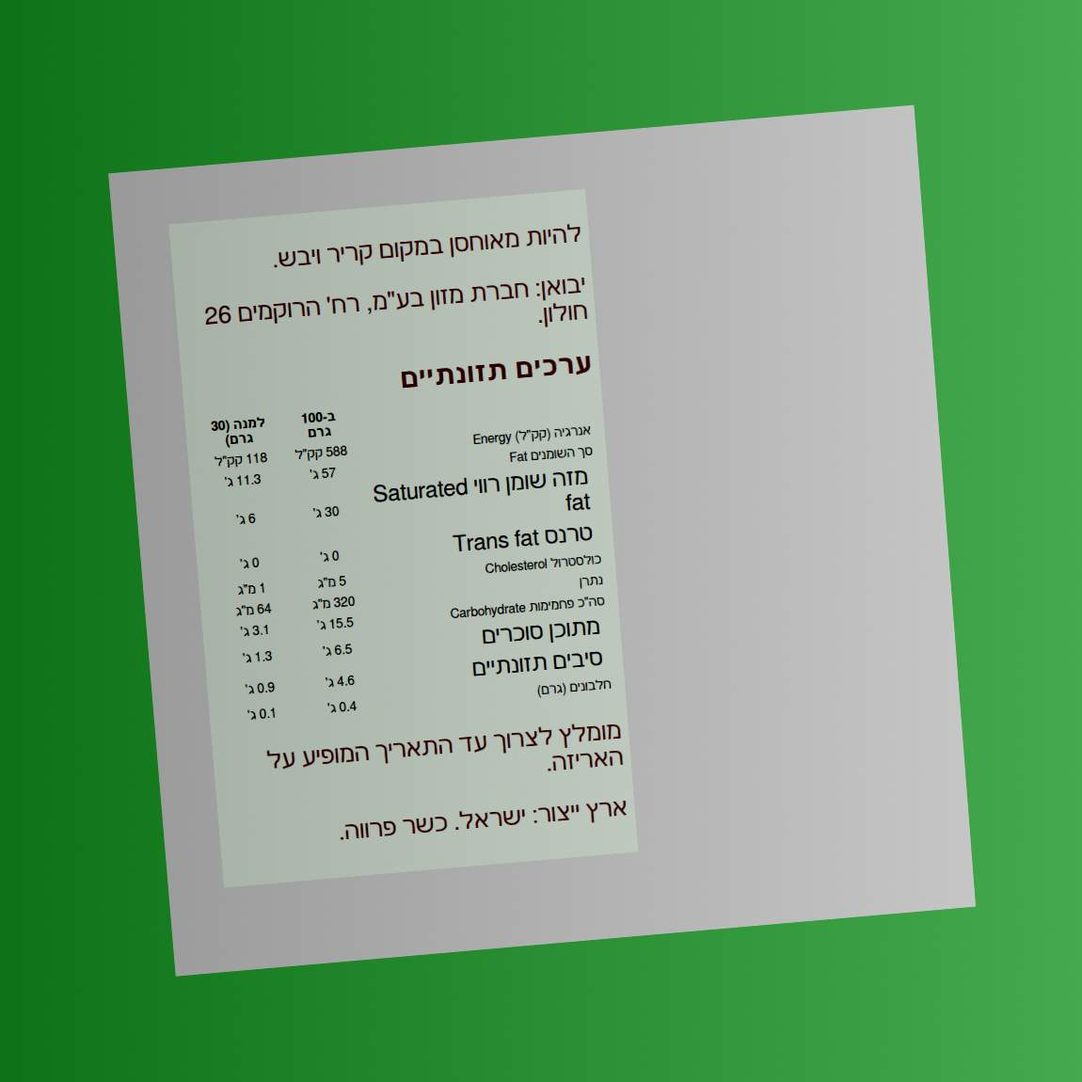carbs: (315, 614, 356, 634)
energy: (292, 442, 350, 464)
fat: (308, 465, 338, 483)
protein: (325, 698, 359, 717)
